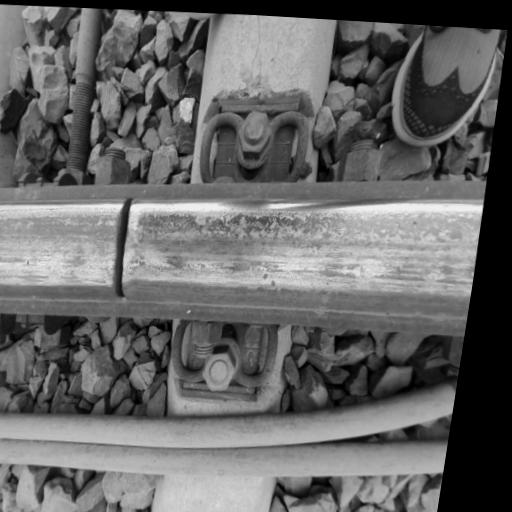bolt: (226, 99, 283, 167), (189, 348, 245, 396)
broken_rail: (0, 175, 416, 337)
clip: (186, 92, 331, 188), (155, 309, 291, 408)
